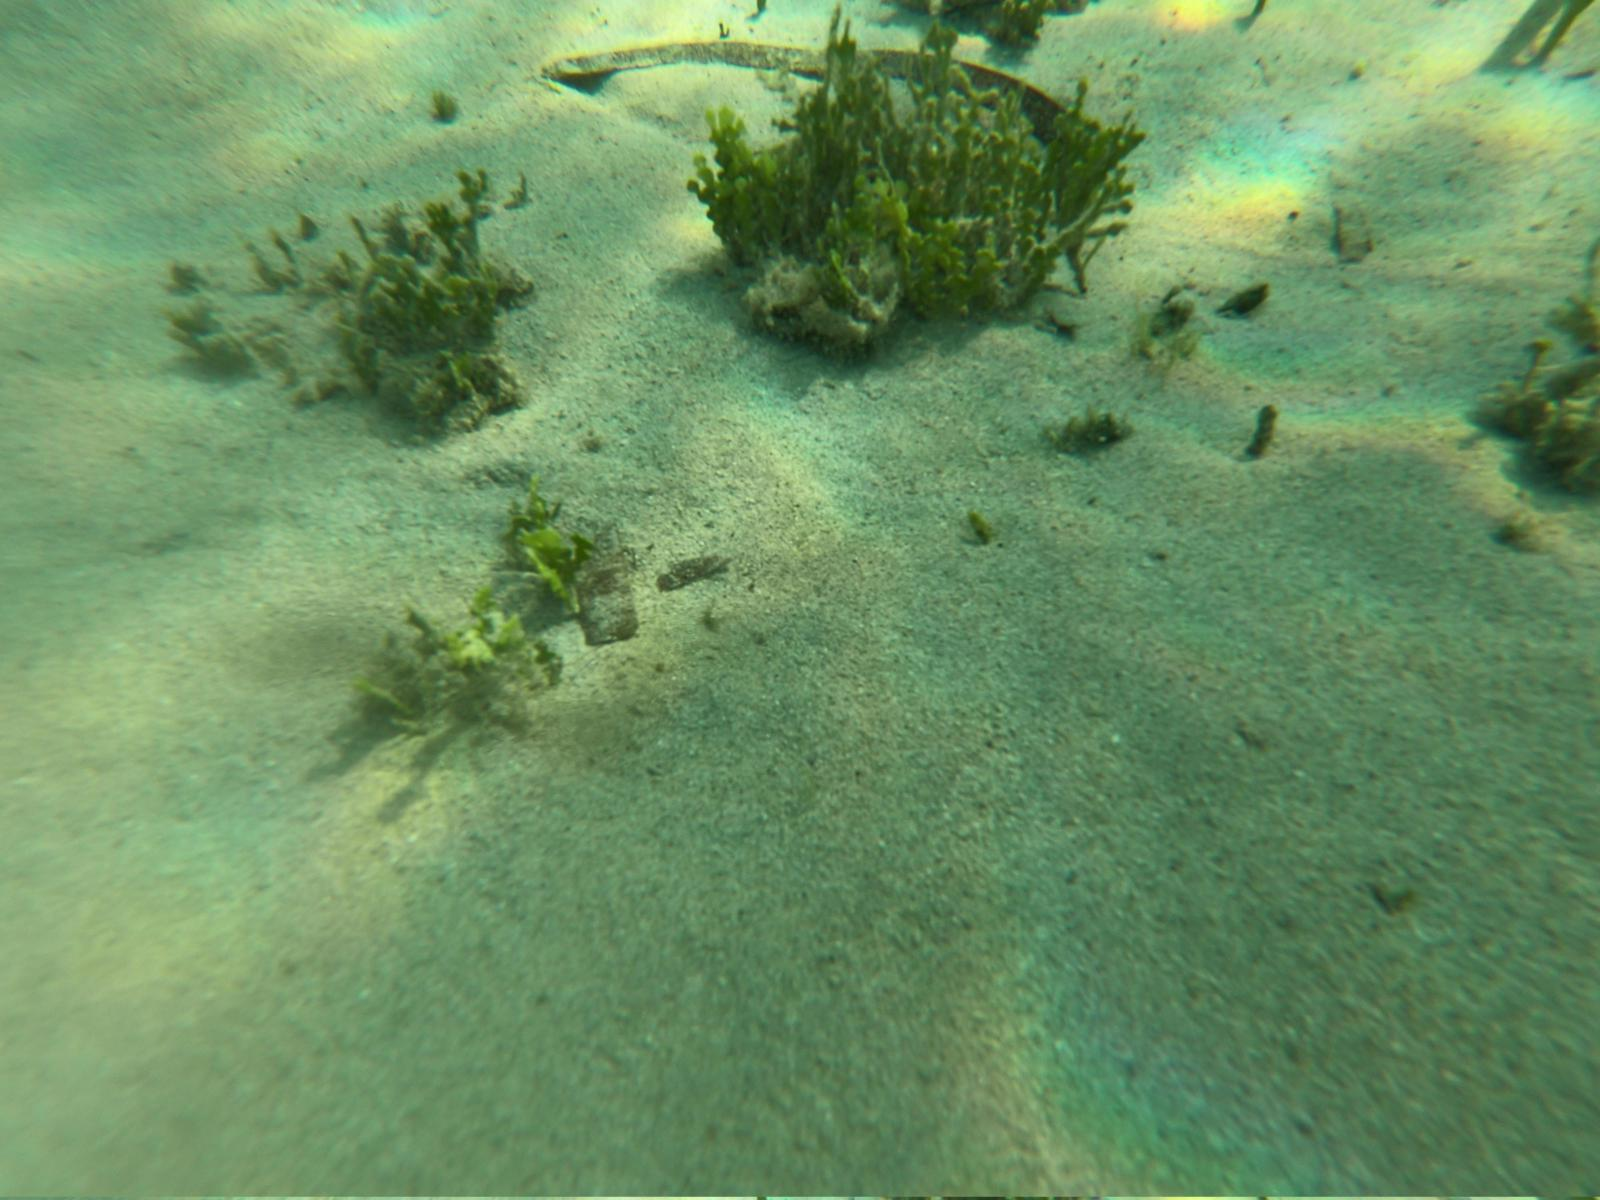halimeda: (690, 13, 1136, 361), (360, 248, 506, 345), (495, 487, 590, 615), (452, 586, 523, 669), (420, 203, 490, 267), (449, 160, 494, 216)
